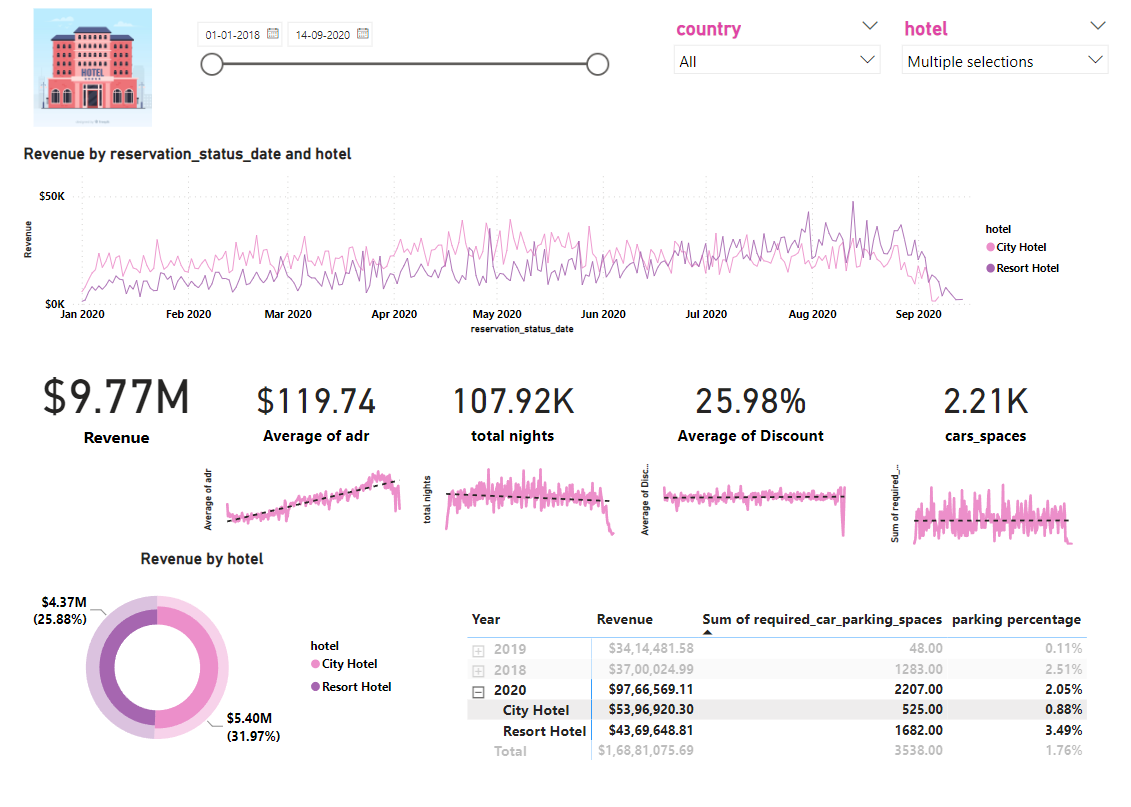

Layout of this report page (visuals, bound fields, positions):
{"tool":"powerbi","page":{"name":"Page 1","canvas":[1280,920],"ordinal":0},"visuals":[{"type":"card","fields":{"Values":["Avg(Query1.adr)"]},"box":[263.7,170.3,230.7,97.5],"z":0},{"type":"card","fields":{"Values":["Query1.total nights"]},"box":[488.9,170.3,225.2,97.5],"z":1000},{"type":"card","fields":{"Values":["Avg(Query1.Discount)"]},"box":[765,170.3,211.5,97.5],"z":2000},{"type":"card","fields":{"Values":["Sum(Query1.Revenue)"]},"box":[0,131.6,278,120.9],"z":3000},{"type":"lineChart","fields":{"Category":["Query1.reservation_status_date"],"Y":["Sum(Query1.Revenue)"],"Series":["Query1.hotel"]},"box":[42.6,402.4,1192.1,219.7],"z":4000},{"type":"slicer","fields":{"Values":["Query1.country"]},"box":[752.6,20.6,254.1,78.3],"z":5000},{"type":"slicer","fields":{"Values":["Query1.hotel"]},"box":[1010.8,20.6,254.1,78.3],"z":6000},{"type":"lineChart","fields":{"Category":["Query1.reservation_status_date"],"Y":["Avg(Query1.adr)"]},"box":[247.2,267.8,241.7,101.6],"z":7000},{"type":"lineChart","fields":{"Category":["Query1.reservation_status_date"],"Y":["Query1.total nights"]},"box":[494.4,267.8,236.2,101.6],"z":8000},{"type":"lineChart","fields":{"Category":["Query1.reservation_status_date"],"Y":["Avg(Query1.Discount)"]},"box":[741.6,267.8,251.3,101.6],"z":9000},{"type":"card","fields":{"Values":["Sum(Query1.required_car_parking_spaces)"]},"box":[1038.3,170.3,196.4,97.5],"z":10000},{"type":"lineChart","fields":{"Category":["Query1.reservation_status_date"],"Y":["Sum(Query1.required_car_parking_spaces)"]},"box":[1024.5,267.8,225.2,111.2],"z":11000},{"type":"donutChart","fields":{"Category":["Query1.hotel"],"Y":["Sum(Query1.Revenue)"]},"box":[792.4,640,457.3,247.2],"z":12000},{"type":"pivotTable","fields":{"Rows":["Query1.reservation_status_date.Variation.Date Hierarchy.Year","Query1.hotel"],"Values":["Sum(Query1.Revenue)","Sum(Query1.required_car_parking_spaces)","Query1.parking percentage"]},"box":[22,675.7,740.3,222.5],"z":13000},{"type":"slicer","fields":{"Values":["Query1.reservation_status_date"]},"box":[210.1,20.6,486.2,78.3],"z":14000},{"type":"image","box":[0,10.7,209.5,143.7],"z":14001}]}

Visuals, with their boxes in screenshot pixels (x1, y1, x2, y2), scaled from the page's 1280x920 canvas onto the 1131x807 screenshot:
card - Avg(Query1.adr): [233, 149, 437, 235]
card - Query1.total nights: [432, 149, 631, 235]
card - Avg(Query1.Discount): [676, 149, 863, 235]
card - Sum(Query1.Revenue): [0, 115, 246, 221]
lineChart - Query1.reservation_status_date x Sum(Query1.Revenue): [38, 353, 1091, 546]
slicer - Query1.country: [665, 18, 890, 87]
slicer - Query1.hotel: [893, 18, 1118, 87]
lineChart - Query1.reservation_status_date x Avg(Query1.adr): [218, 235, 432, 324]
lineChart - Query1.reservation_status_date x Query1.total nights: [437, 235, 646, 324]
lineChart - Query1.reservation_status_date x Avg(Query1.Discount): [655, 235, 877, 324]
card - Sum(Query1.required_car_parking_spaces): [917, 149, 1091, 235]
lineChart - Query1.reservation_status_date x Sum(Query1.required_car_parking_spaces): [905, 235, 1104, 332]
donutChart - Query1.hotel x Sum(Query1.Revenue): [700, 561, 1104, 778]
pivotTable - Query1.reservation_status_date.Variation.Date Hierarchy.Year x Query1.hotel: [19, 593, 674, 788]
slicer - Query1.reservation_status_date: [186, 18, 615, 87]
image: [0, 9, 185, 135]
